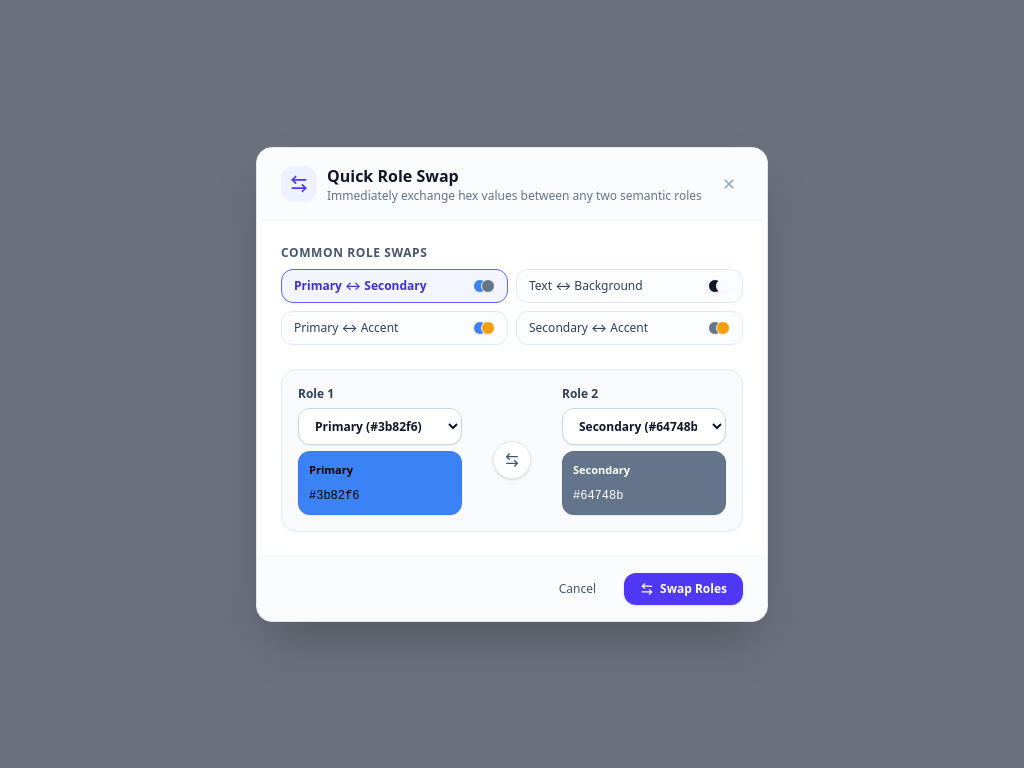
RoleSwapModal (TT-008) › allows clicking quick preset swaps and inverting roles
Note: Click "Text ↔ Background" shortcut
Click the button "Text ↔ Background": (630, 286) x1=516 y1=268 x2=743 y2=302
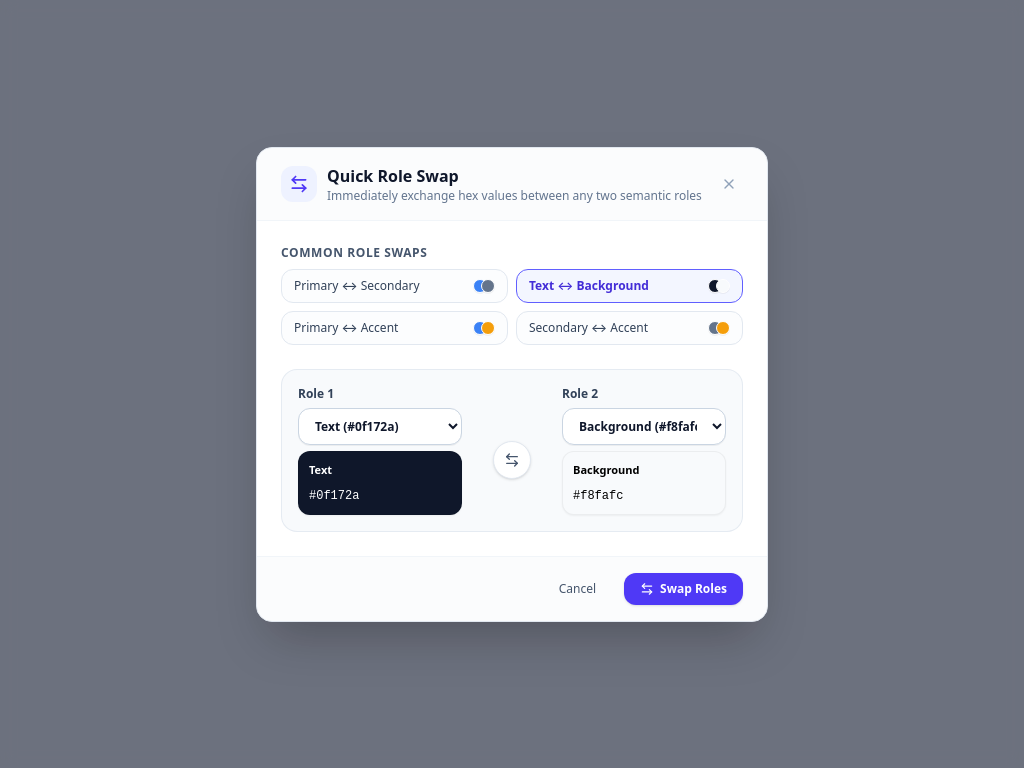
Now the dropdown named "First role to swap" shows "Text (#0f172a)", box x1=298 y1=408 x2=462 y2=444
Now the dropdown named "Second role to swap" shows "Background (#f8fafc)", box x1=562 y1=408 x2=726 y2=444
Note: Invert roles
Click the button named "Invert role selection": (512, 460) x1=493 y1=441 x2=531 y2=479
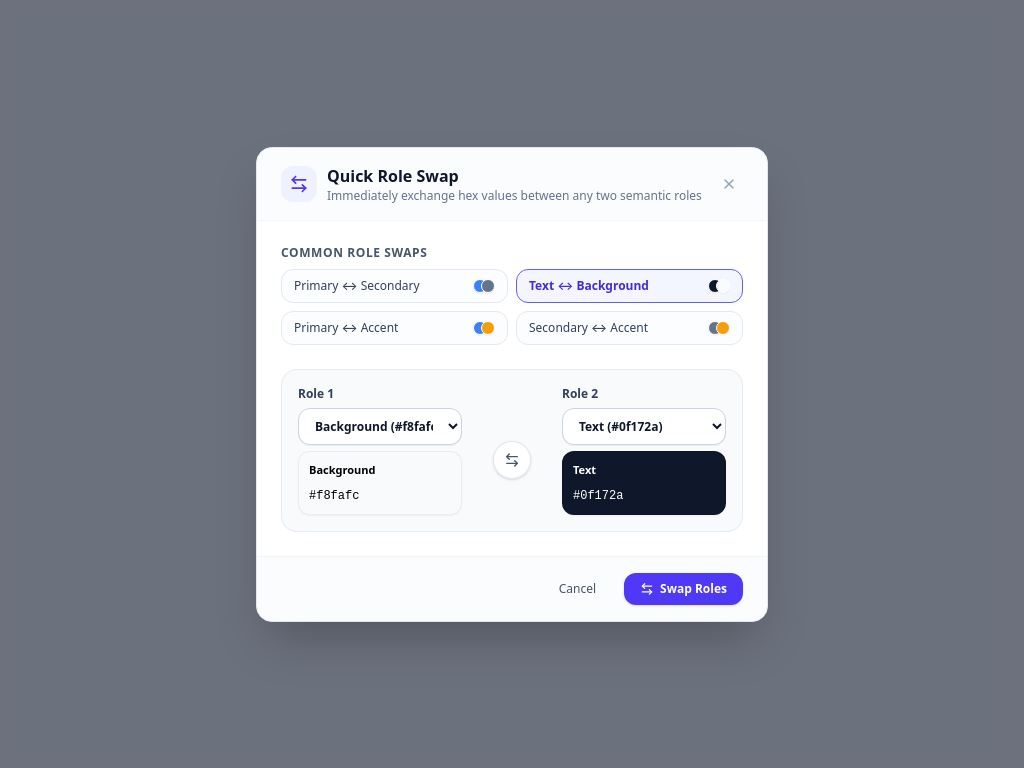
Now the dropdown named "First role to swap" shows "Background (#f8fafc)", box x1=298 y1=408 x2=462 y2=444
Now the dropdown named "Second role to swap" shows "Text (#0f172a)", box x1=562 y1=408 x2=726 y2=444
